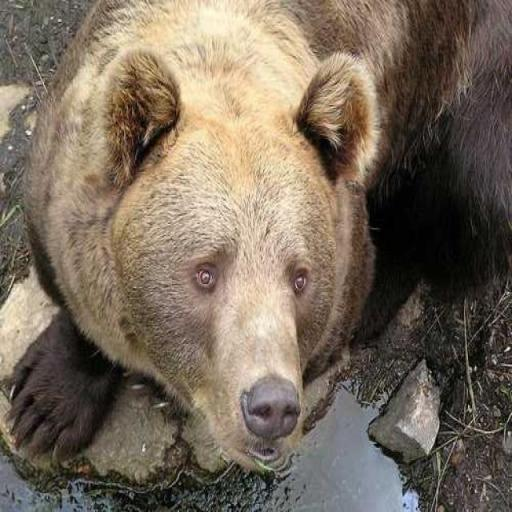Bear: (3, 0, 510, 479)
